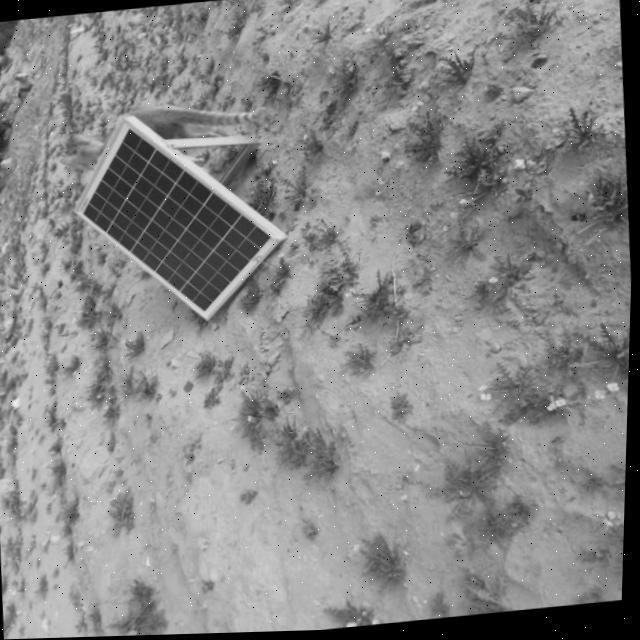Normal Solar Panel: (68, 107, 296, 330)
